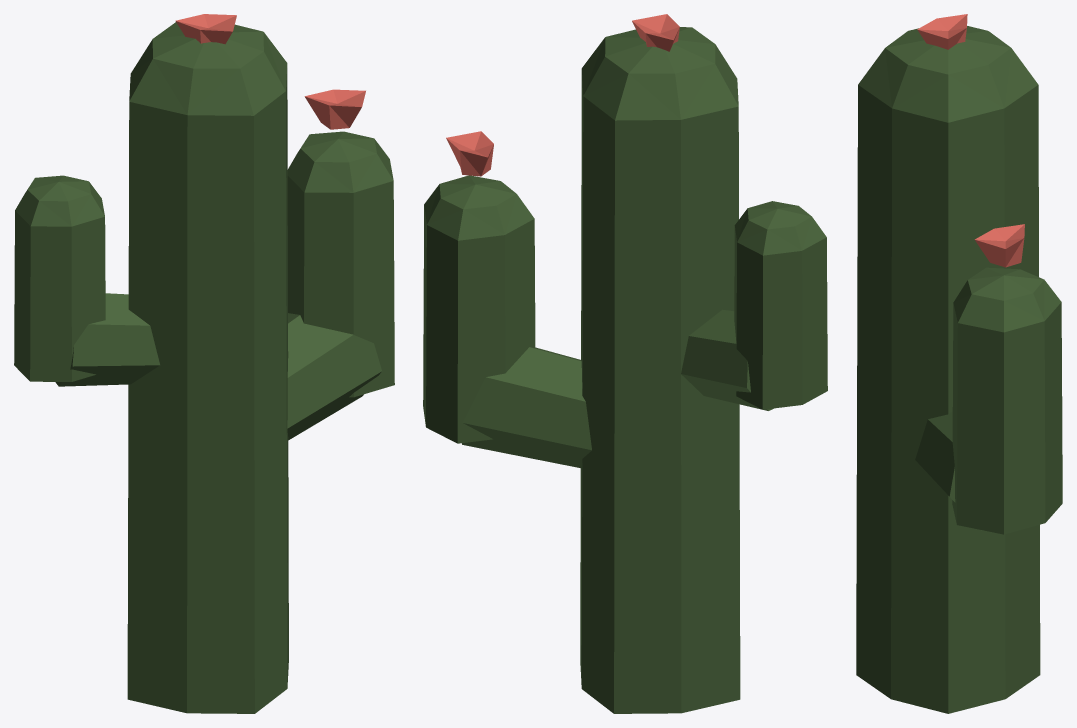
The model's file is Cactus.fbx.
The picture shows the model from 3 angles, left to right: view 1: azimuth 30°, elevation 25°; view 2: azimuth 150°, elevation 25°; view 3: azimuth 270°, elevation 25°; orthographic projection.
Parts seen in each view (by area): view 1: Body, Bloom; view 2: Body, Bloom; view 3: Body, Bloom.
Part boxes in pixels (box(x1,y1,x2,y2)): Body: box(14, 22, 394, 713); Bloom: box(175, 14, 365, 129); Body: box(423, 27, 827, 713); Bloom: box(446, 14, 679, 176); Body: box(856, 26, 1062, 713); Bloom: box(917, 14, 1024, 267).
Size of the model in its own units: 2.67 by 4.37 by 1.26.
